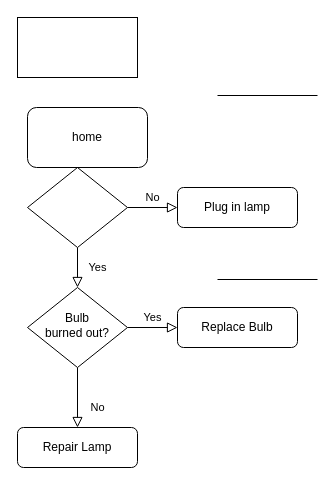
Image size: 335x485. Some labels were removed from this diagram. Each missing label, with the box of its shape:
enter into website: (16, 16, 138, 78)
Lamp plugged in?: (26, 166, 128, 248)
